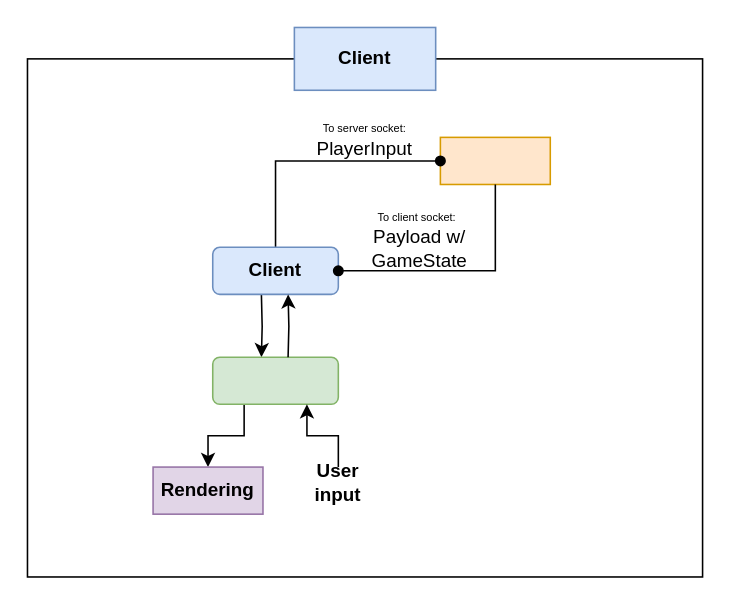
Some shapes in this 730 by 604 pixel diagram are drawn without their labels. Here are the shapes that lost their labels. From the top down, the centre of each, then its label:
the point at 494,160: Server
the point at 274,380: GWController
